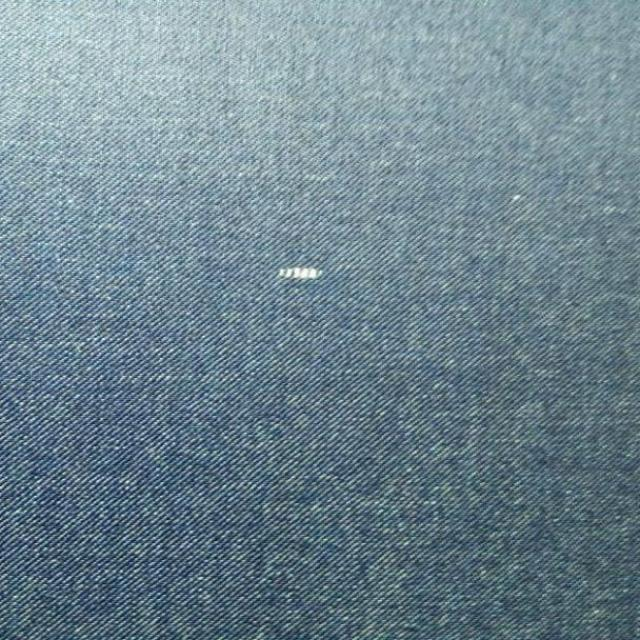Knot: (279, 268, 323, 278)
